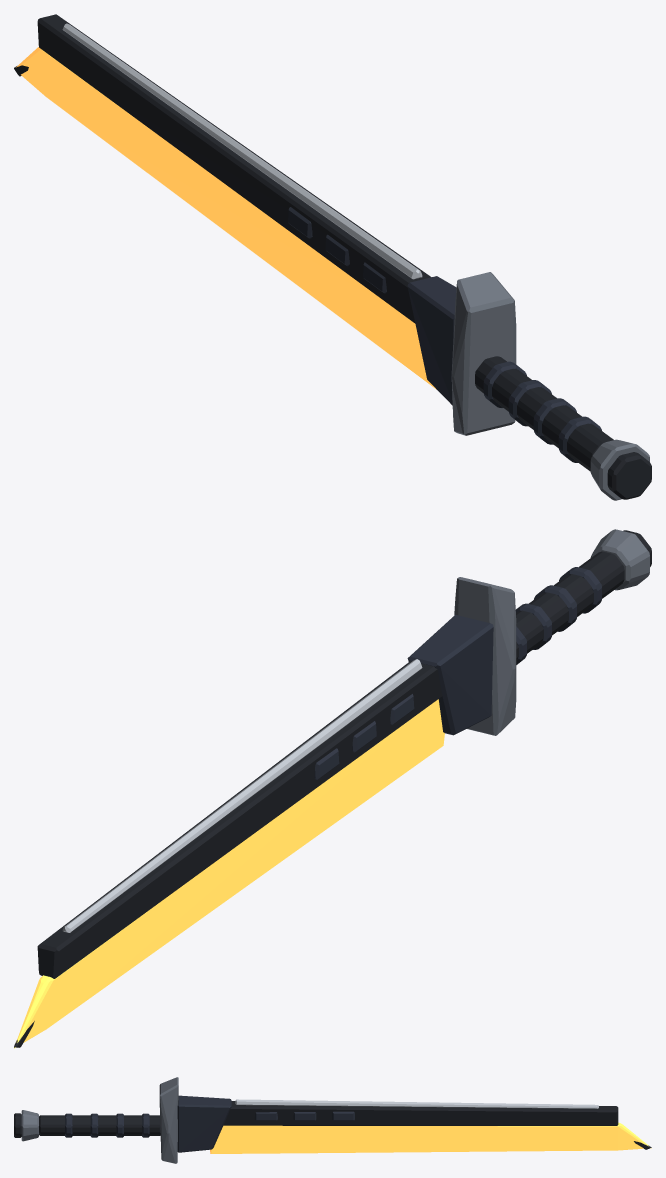
File: w_b_heat_sword.glb
3 renders of one model, top to bottom at view 1: azimuth 30°, elevation 25°; view 2: azimuth 150°, elevation 25°; view 3: azimuth 270°, elevation 25°, orthographic. The views are drawn at different scales.
Visible parts, largest first — view 1: weapon_body, weapon, weapon_metal; view 2: weapon_body, weapon, weapon_metal; view 3: weapon, weapon_metal, weapon_body.
Boxes of the visible parts, x1=… form: weapon_body: x1=288, y1=207, x2=651, y2=500; weapon: x1=16, y1=47, x2=436, y2=389; weapon_metal: x1=14, y1=14, x2=431, y2=323; weapon_body: x1=314, y1=529, x2=651, y2=779; weapon: x1=14, y1=699, x2=444, y2=1048; weapon_metal: x1=14, y1=659, x2=442, y2=1047; weapon: x1=210, y1=1122, x2=651, y2=1153; weapon_metal: x1=223, y1=1099, x2=651, y2=1149; weapon_body: x1=14, y1=1077, x2=354, y2=1163.
Size of the model in its own units: 0.8172 by 1.88 by 13.88.
